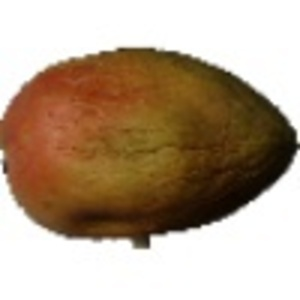mamão: (3, 43, 297, 239)
